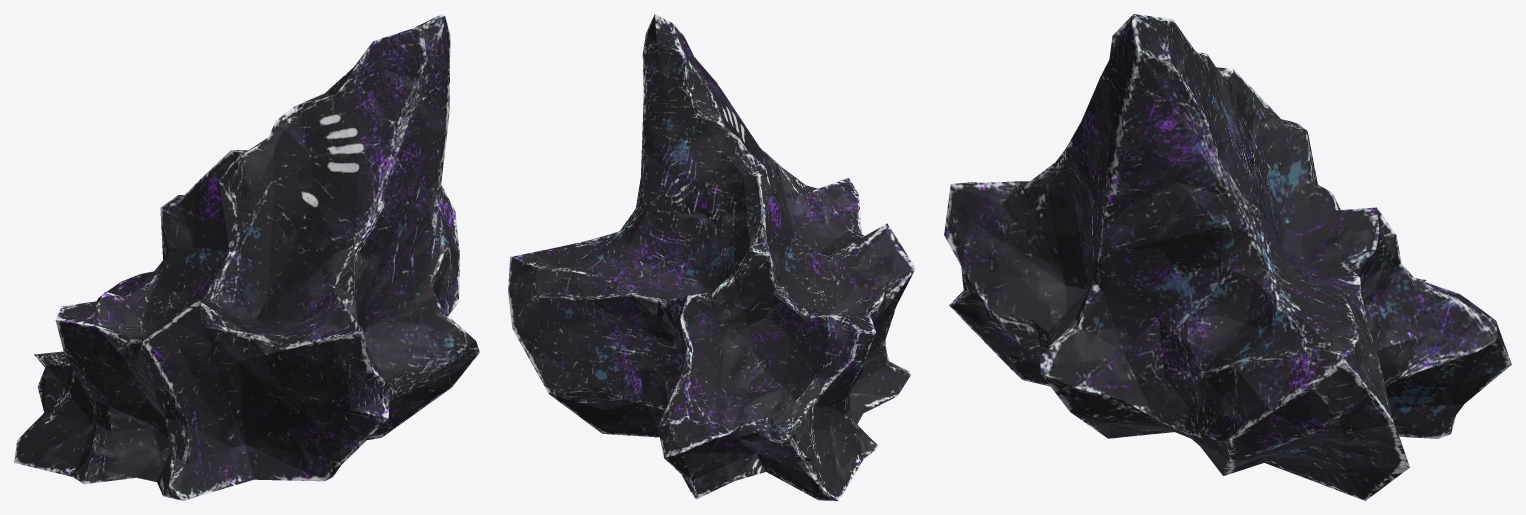
Rendered from crystal.glb.
3 views of the same model, side by side, from view 1: azimuth 30°, elevation 25°; view 2: azimuth 150°, elevation 25°; view 3: azimuth 270°, elevation 25° (orthographic). The views are drawn at different scales.
Visible parts, largest first — view 1: Rock_LP.001_Material.001_0; view 2: Rock_LP.001_Material.001_0; view 3: Rock_LP.001_Material.001_0.
Part boxes in pixels (x1,y1,x2,y2): Rock_LP.001_Material.001_0: [14, 14, 479, 500]; Rock_LP.001_Material.001_0: [508, 14, 915, 500]; Rock_LP.001_Material.001_0: [944, 14, 1511, 500].
Size of the model in its own units: 0.0104 by 0.0107 by 0.0106.
Materials: 1 (1 with a texture image).
